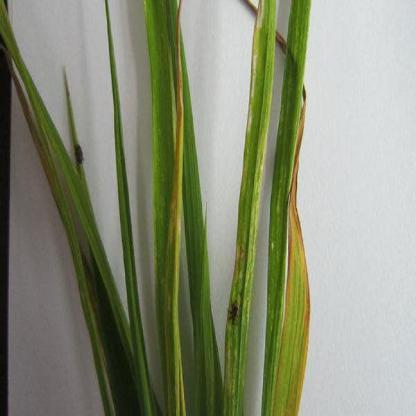rice-bug: (228, 294, 240, 324), (74, 141, 83, 164)
